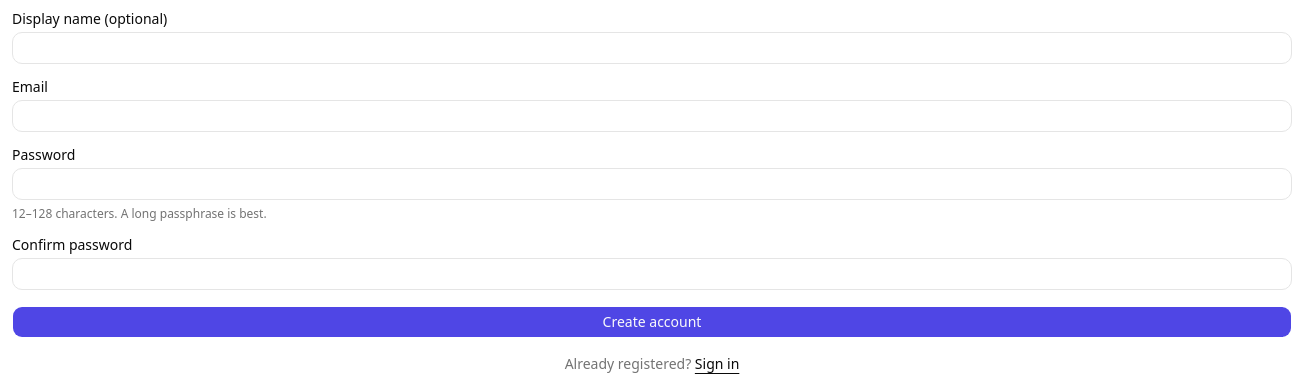
Test: RegisterForm › enforces the password length policy client-side
In the field labelled "Email": (652, 116) top-left (12, 100), bottom-right (1292, 132), type "new@example.com"
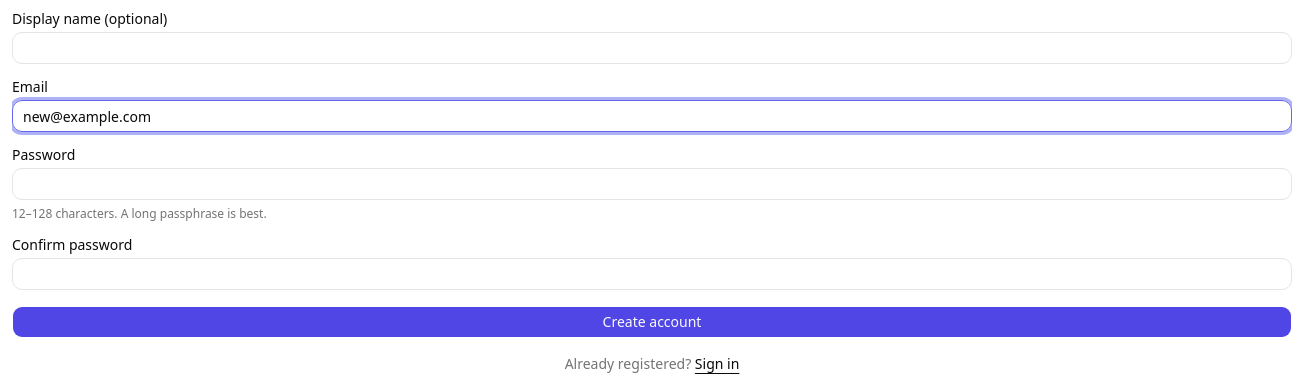
In the password field labelled "Password": (652, 184) top-left (12, 168), bottom-right (1292, 200), type "short"
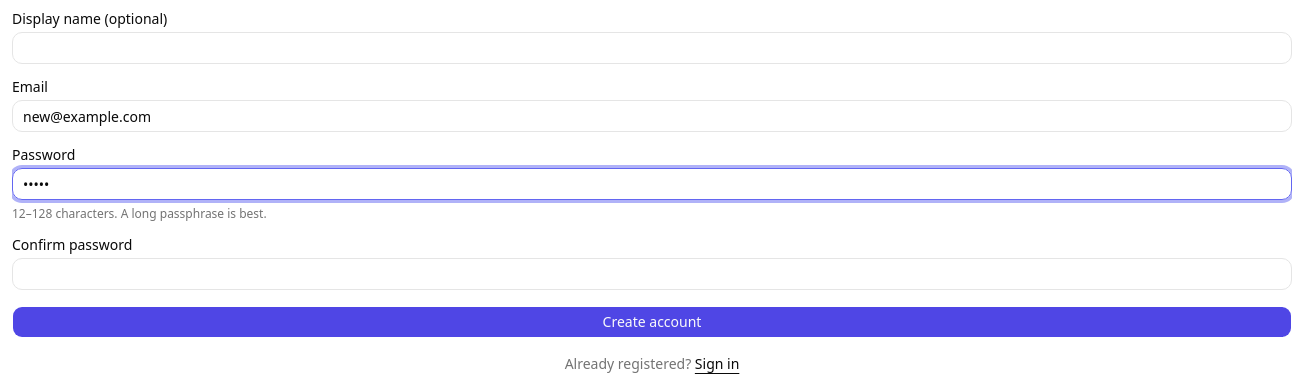
In the password field labelled "Confirm password": (652, 274) top-left (12, 258), bottom-right (1292, 290), type "short"
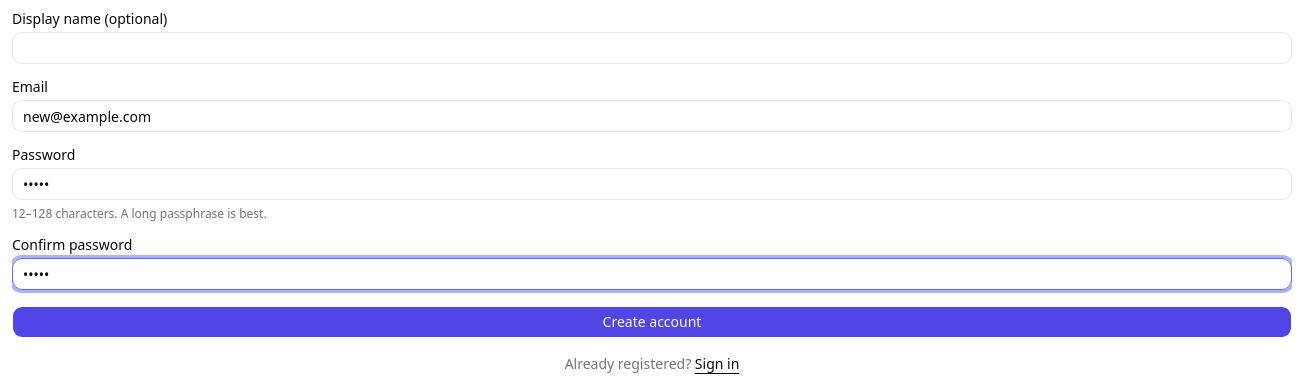
Click the button "Create account": (652, 322) top-left (12, 306), bottom-right (1292, 338)
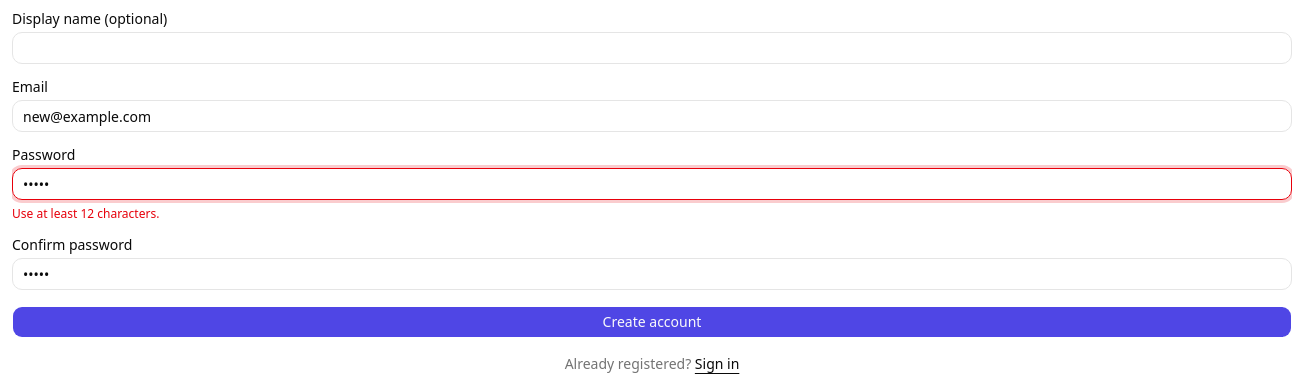
Expected: the text "Use at least 12 characters." is shown, top-left (12, 205), bottom-right (159, 222)
